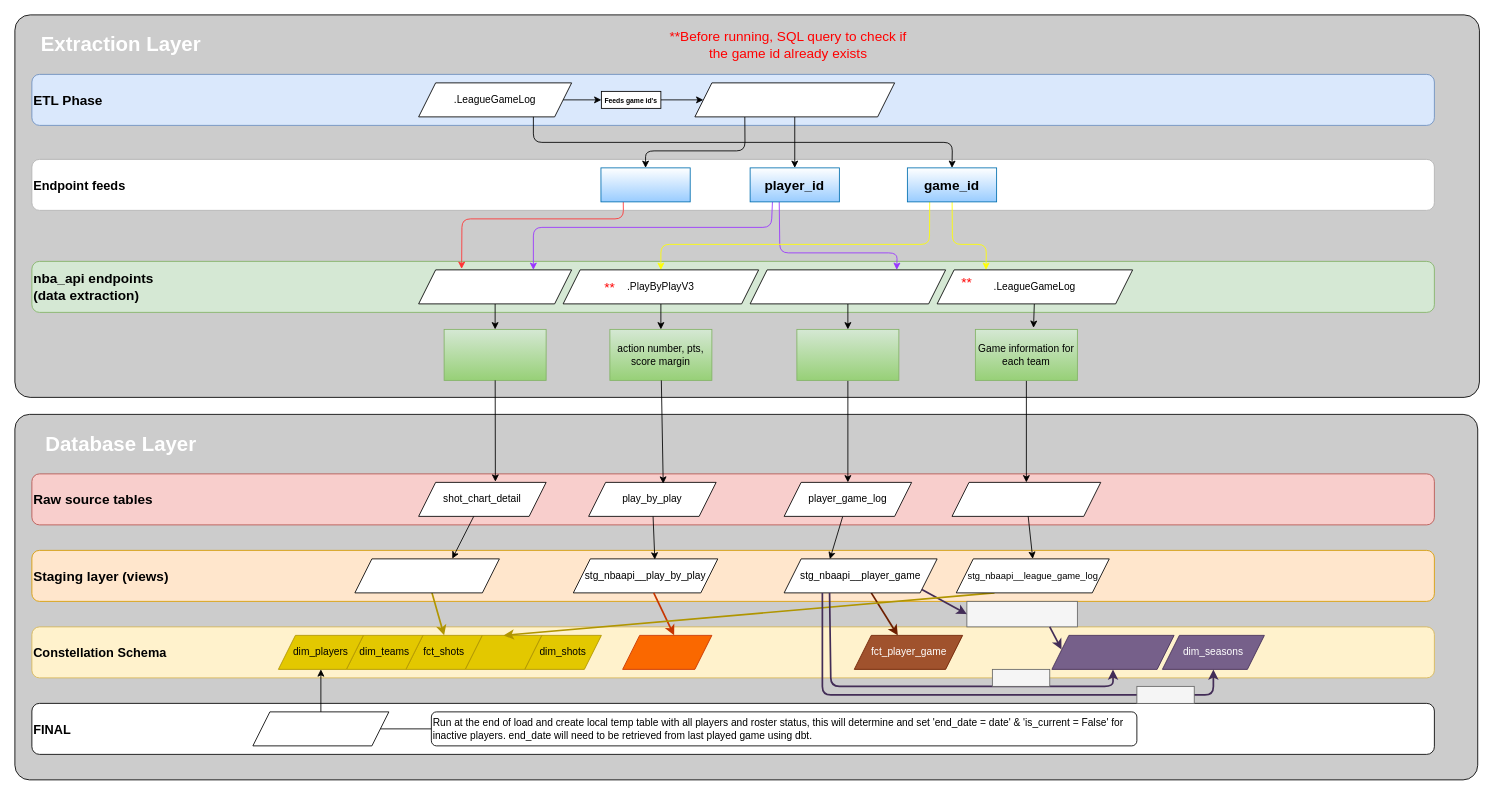
The diagram is 1494 pixels wide and 795 high, and some of its shapes have lost their labels. The centre of each missing label's shape, as x and y in pixels:
".BoxScoreAdvancedV3.PlayerStats" belongs at point 794,99.
".CommonAllPlayers" belongs at point 320,728.
".PlayerGameLog" belongs at point 847,286.
".ShotChartDetail" belongs at point 495,286.
"dim_games" belongs at point 503,652.
"fct_pbp" belongs at point 667,652.
"fct_player_season" belongs at point 1112,652.
"Game information for each player" belongs at point 847,354.
"Incremental CM's" belongs at point 1021,677.
"league_game_log" belongs at point 1026,499.
"Player shot stats" belongs at point 494,354.
"season high pts, season high game id, season low pts - CM" belongs at point 1021,614.
"season, season_id" belongs at point 1165,694.
"stg_nbaapi__player_shots" belongs at point 426,575.
"team_id" belongs at point 645,184.
